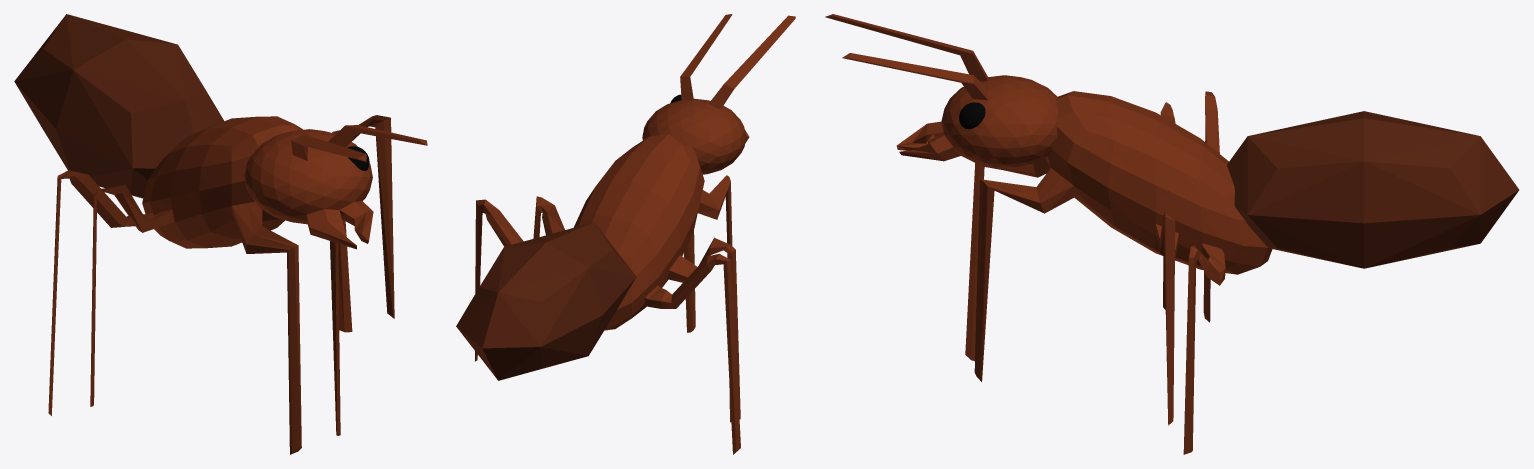
Rendered from jamesbyr.dae.
3 renders of one model, left to right at view 1: azimuth 30°, elevation 25°; view 2: azimuth 150°, elevation 25°; view 3: azimuth 270°, elevation 25°, orthographic. The views are drawn at different scales.
Visible parts, largest first — view 1: abdomin-S3D-14-FLIPPED, thorax-S3D-13-FLIPPED, head-S3D-16; view 2: abdomin-S3D-14-FLIPPED, thorax-S3D-13-FLIPPED, head-S3D-16; view 3: abdomin-S3D-14-FLIPPED, thorax-S3D-13-FLIPPED, head-S3D-16.
Boxes of the visible parts, x1,y1,x2,y2 form: abdomin-S3D-14-FLIPPED: (48,115,394,454); thorax-S3D-13-FLIPPED: (14,14,223,198); head-S3D-16: (244,125,427,249); abdomin-S3D-14-FLIPPED: (475,134,740,454); thorax-S3D-13-FLIPPED: (456,222,636,380); head-S3D-16: (642,14,795,174); abdomin-S3D-14-FLIPPED: (965,91,1272,454); thorax-S3D-13-FLIPPED: (1227,111,1519,268); head-S3D-16: (825,14,1057,168).
Bounding box in the file's own units: 2.41 × 2.55 × 4.39.
